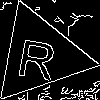R: (14, 30, 61, 81)
